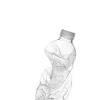BIODEGRADABLE: (33, 27, 80, 100)
